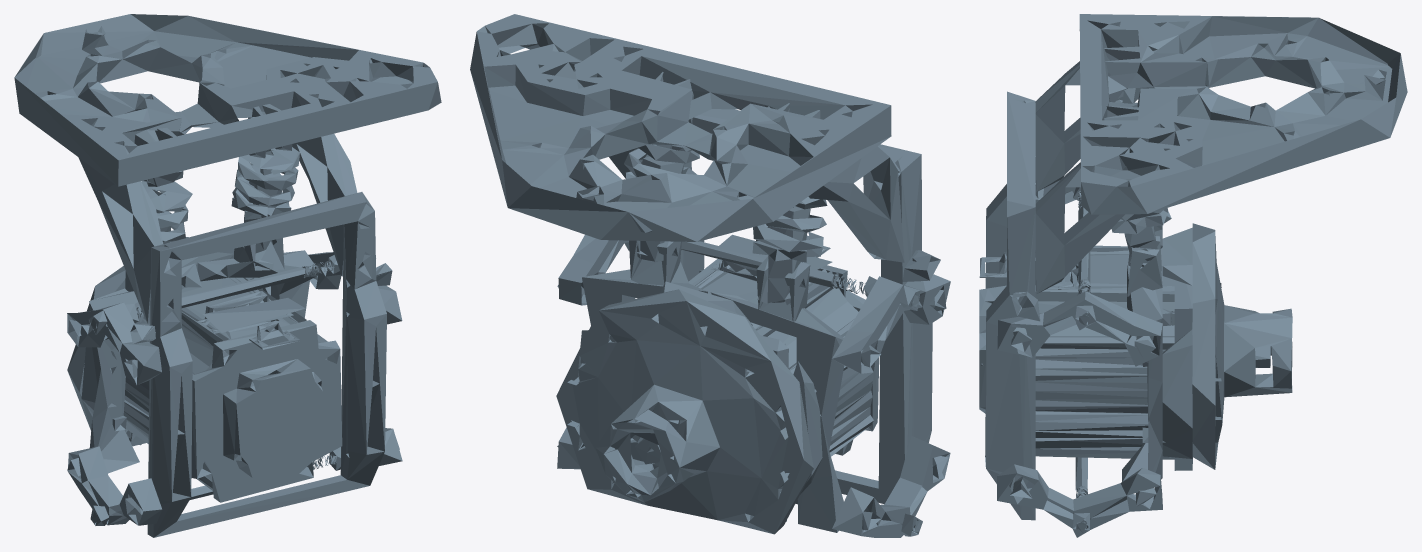
The model's file is steer_FL.dae.
3 renders of one model, left to right at view 1: azimuth 30°, elevation 25°; view 2: azimuth 150°, elevation 25°; view 3: azimuth 270°, elevation 25°, orthographic. The views are drawn at different scales.
Parts seen in each view (by area): view 1: node; view 2: node; view 3: node.
Part boxes in pixels (box(x1,y1,x2,y2)): node: box(14, 14, 441, 537); node: box(470, 14, 950, 537); node: box(979, 14, 1407, 537).
Size of the model in its own units: 0.3082 by 0.3014 by 0.3062.
